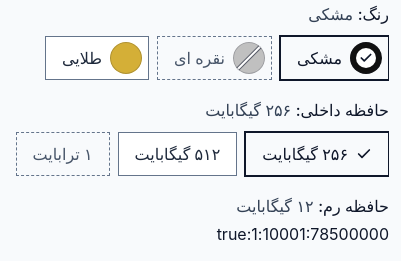
Test: VariantPicker › updates the variant without a request when a value is chosen
This screenshot has width=401, height=261.
Click the radio button labelled "۵۱۲ گیگابایت": (177, 154) [118,132,237,176]
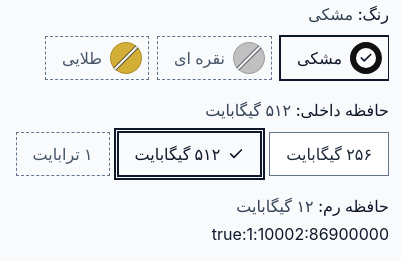
Result: the text with test id "probe" reads "10002:86900000:true:1" at [212,224,389,244]
